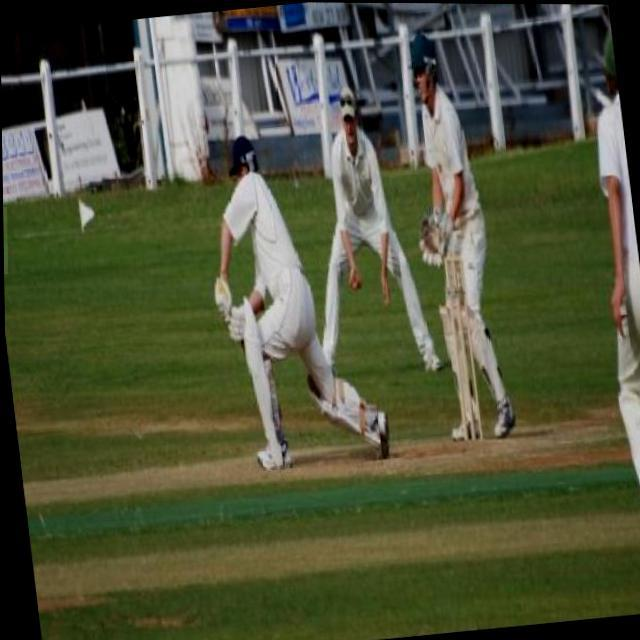-: (2, 207, 8, 274)
